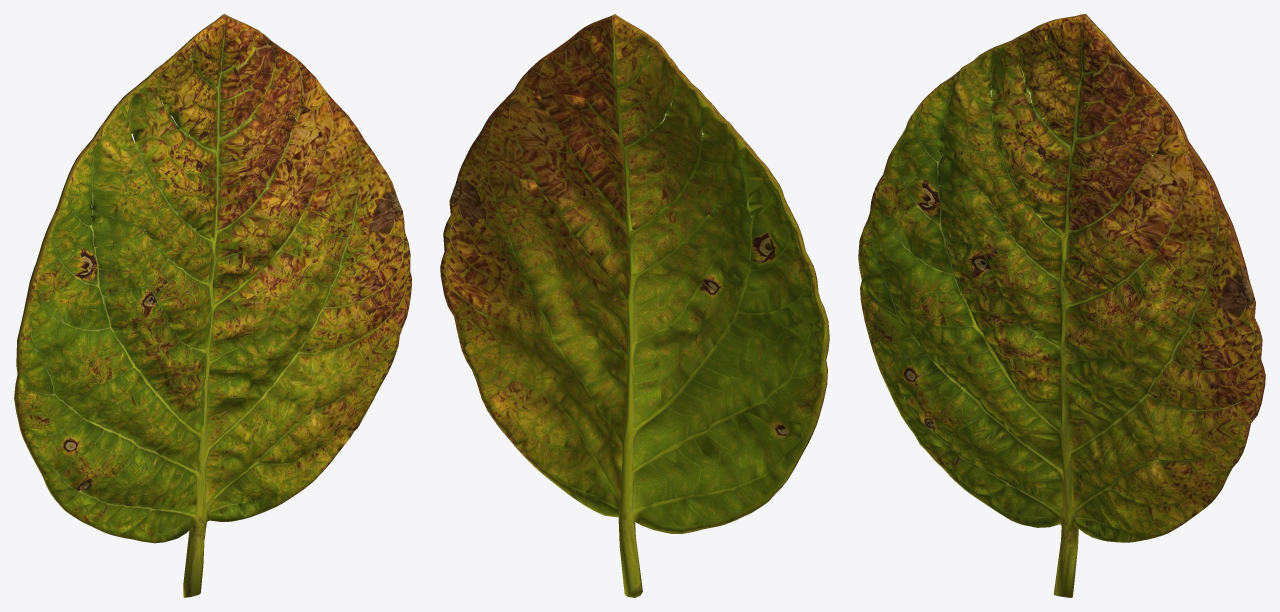
File: soybean_cercospora_leaf_blight.glb
The picture shows the model from 3 angles, left to right: view 1: azimuth 30°, elevation 25°; view 2: azimuth 150°, elevation 25°; view 3: azimuth 330°, elevation 25°; orthographic projection. The views are drawn at different scales.
Visible parts, largest first — view 1: soybean_cercospora_leaf_blight; view 2: soybean_cercospora_leaf_blight; view 3: soybean_cercospora_leaf_blight.
Boxes of the visible parts, left/top/right/bottom form: soybean_cercospora_leaf_blight: left=14, top=14, right=411, bottom=597; soybean_cercospora_leaf_blight: left=440, top=14, right=829, bottom=597; soybean_cercospora_leaf_blight: left=858, top=14, right=1265, bottom=597.
Bounding box in the file's own units: 0.7109 × 0.9997 × 0.0855.
Materials: 1 (1 with a texture image).
